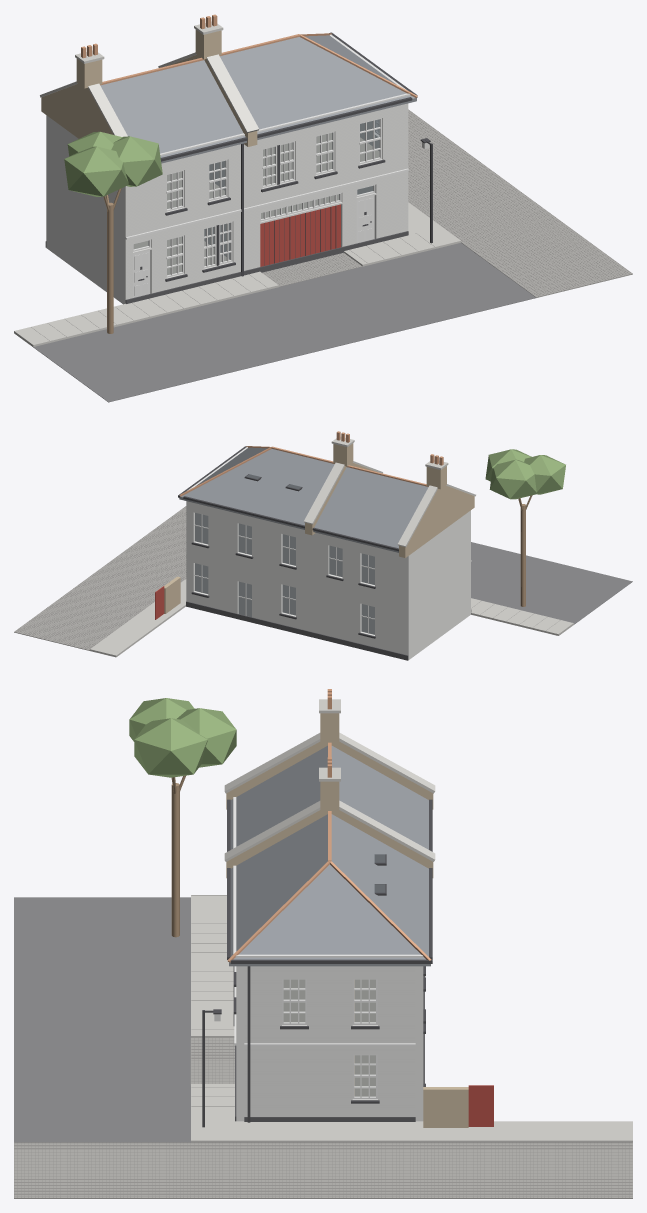
The model's file is clay-mews-coach-house-clay-v002.glb.
The picture shows the model from 3 angles, top to bottom: view 1: azimuth 30°, elevation 25°; view 2: azimuth 150°, elevation 25°; view 3: azimuth 270°, elevation 25°; orthographic projection. The views are drawn at different scales.
Parts seen in each view (by area): view 1: CLAY_ASPHALT, CLAY_WALL, CLAY_ROOF, CLAY_SETTS, CLAY_SETTJOINT, CLAY_PAVING, CLAY_TRIM, CLAY_PLANTING, CLAY_BRICK, CLAY_HARDWARE, CLAY_GLASS, CLAY_DOOR (+8 smaller); view 2: CLAY_WALL, CLAY_ROOF, CLAY_SETTS, CLAY_ASPHALT, CLAY_SETTJOINT, CLAY_BRICK, CLAY_TRIM, CLAY_PAVING, CLAY_GLASS, CLAY_PLANTING, CLAY_STONE, CLAY_HARDWARE (+3 smaller); view 3: CLAY_ASPHALT, CLAY_SETTS, CLAY_ROOF, CLAY_WALL, CLAY_SETTJOINT, CLAY_PAVING, CLAY_BRICK, CLAY_PLANTING, CLAY_JOINT, CLAY_STONE, CLAY_HARDWARE, CLAY_TRIM (+7 smaller).
Part boxes in pixels (<box>): CLAY_ASPHALT: <box>33,243,535,402</box>; CLAY_WALL: <box>46,103,408,304</box>; CLAY_ROOF: <box>100,35,416,163</box>; CLAY_SETTS: <box>262,110,632,297</box>; CLAY_SETTJOINT: <box>14,109,632,344</box>; CLAY_PAVING: <box>14,202,460,346</box>; CLAY_TRIM: <box>125,118,408,295</box>; CLAY_PLANTING: <box>64,131,162,196</box>; CLAY_BRICK: <box>41,29,257,146</box>; CLAY_HARDWARE: <box>138,32,432,281</box>; CLAY_GLASS: <box>133,119,379,275</box>; CLAY_DOOR: <box>260,204,340,266</box>; CLAY_WALL: <box>186,501,470,660</box>; CLAY_ROOF: <box>179,447,428,552</box>; CLAY_SETTS: <box>14,506,186,650</box>; CLAY_ASPHALT: <box>471,542,632,624</box>; CLAY_SETTJOINT: <box>14,506,573,649</box>; CLAY_BRICK: <box>164,443,474,613</box>; CLAY_TRIM: <box>194,513,471,634</box>; CLAY_PAVING: <box>90,579,573,657</box>; CLAY_GLASS: <box>195,474,374,634</box>; CLAY_PLANTING: <box>485,449,565,499</box>; CLAY_STONE: <box>303,437,475,547</box>; CLAY_HARDWARE: <box>178,446,398,638</box>; CLAY_ASPHALT: <box>14,897,190,1142</box>; CLAY_SETTS: <box>14,1038,632,1198</box>; CLAY_ROOF: <box>229,745,430,966</box>; CLAY_WALL: <box>236,966,423,1121</box>; CLAY_SETTJOINT: <box>14,895,632,1197</box>; CLAY_PAVING: <box>191,895,632,1142</box>; CLAY_BRICK: <box>226,713,468,1127</box>; CLAY_PLANTING: <box>129,698,236,777</box>; CLAY_JOINT: <box>245,968,414,1107</box>; CLAY_STONE: <box>224,699,435,861</box>; CLAY_HARDWARE: <box>202,799,432,1127</box>; CLAY_TRIM: <box>234,966,415,1099</box>.
Bounding box in the file's own units: 28.21 × 11.82 × 24.51.
